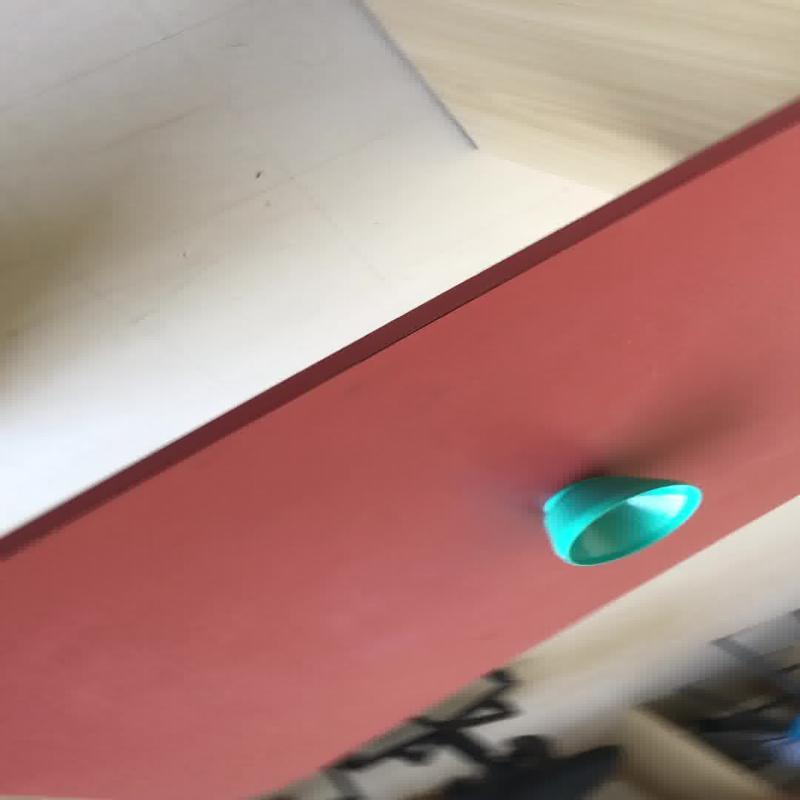bowl: (539, 474, 702, 566)
